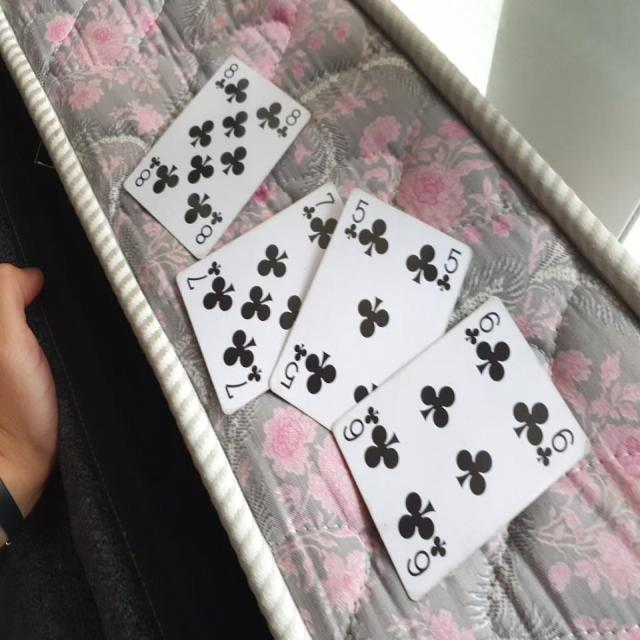5 Trefoils: (267, 188, 474, 433)
6 Trefoils: (329, 293, 594, 600)
7 Trefoils: (174, 180, 346, 416)
8 Trefoils: (120, 53, 312, 264)
